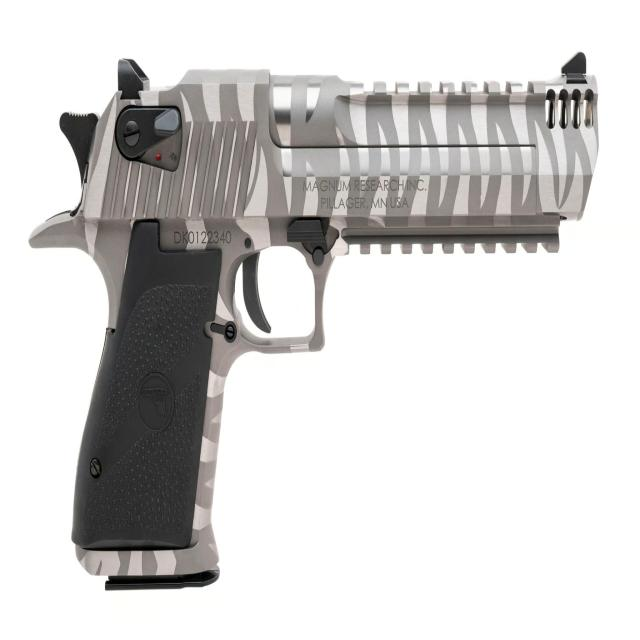gun: (27, 53, 602, 593)
